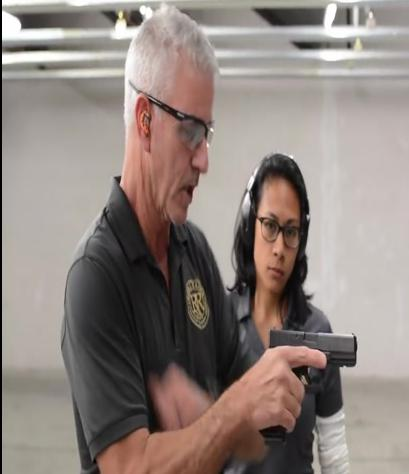pistol: (256, 322, 360, 440)
